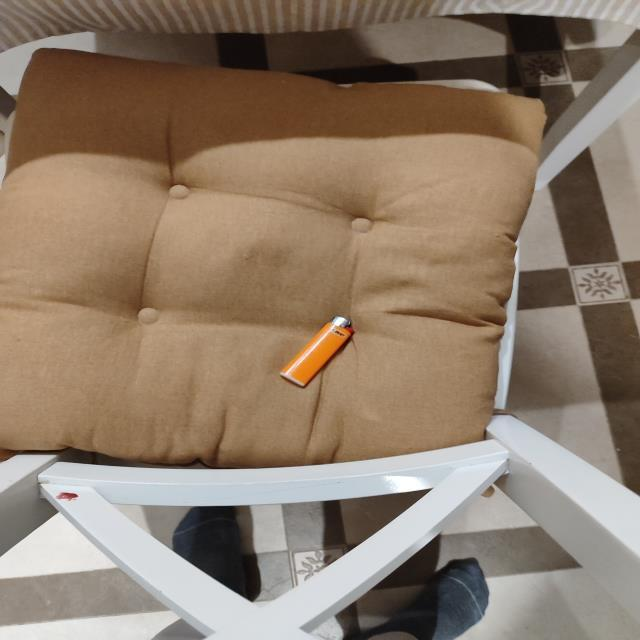lighter: (281, 316, 353, 387)
